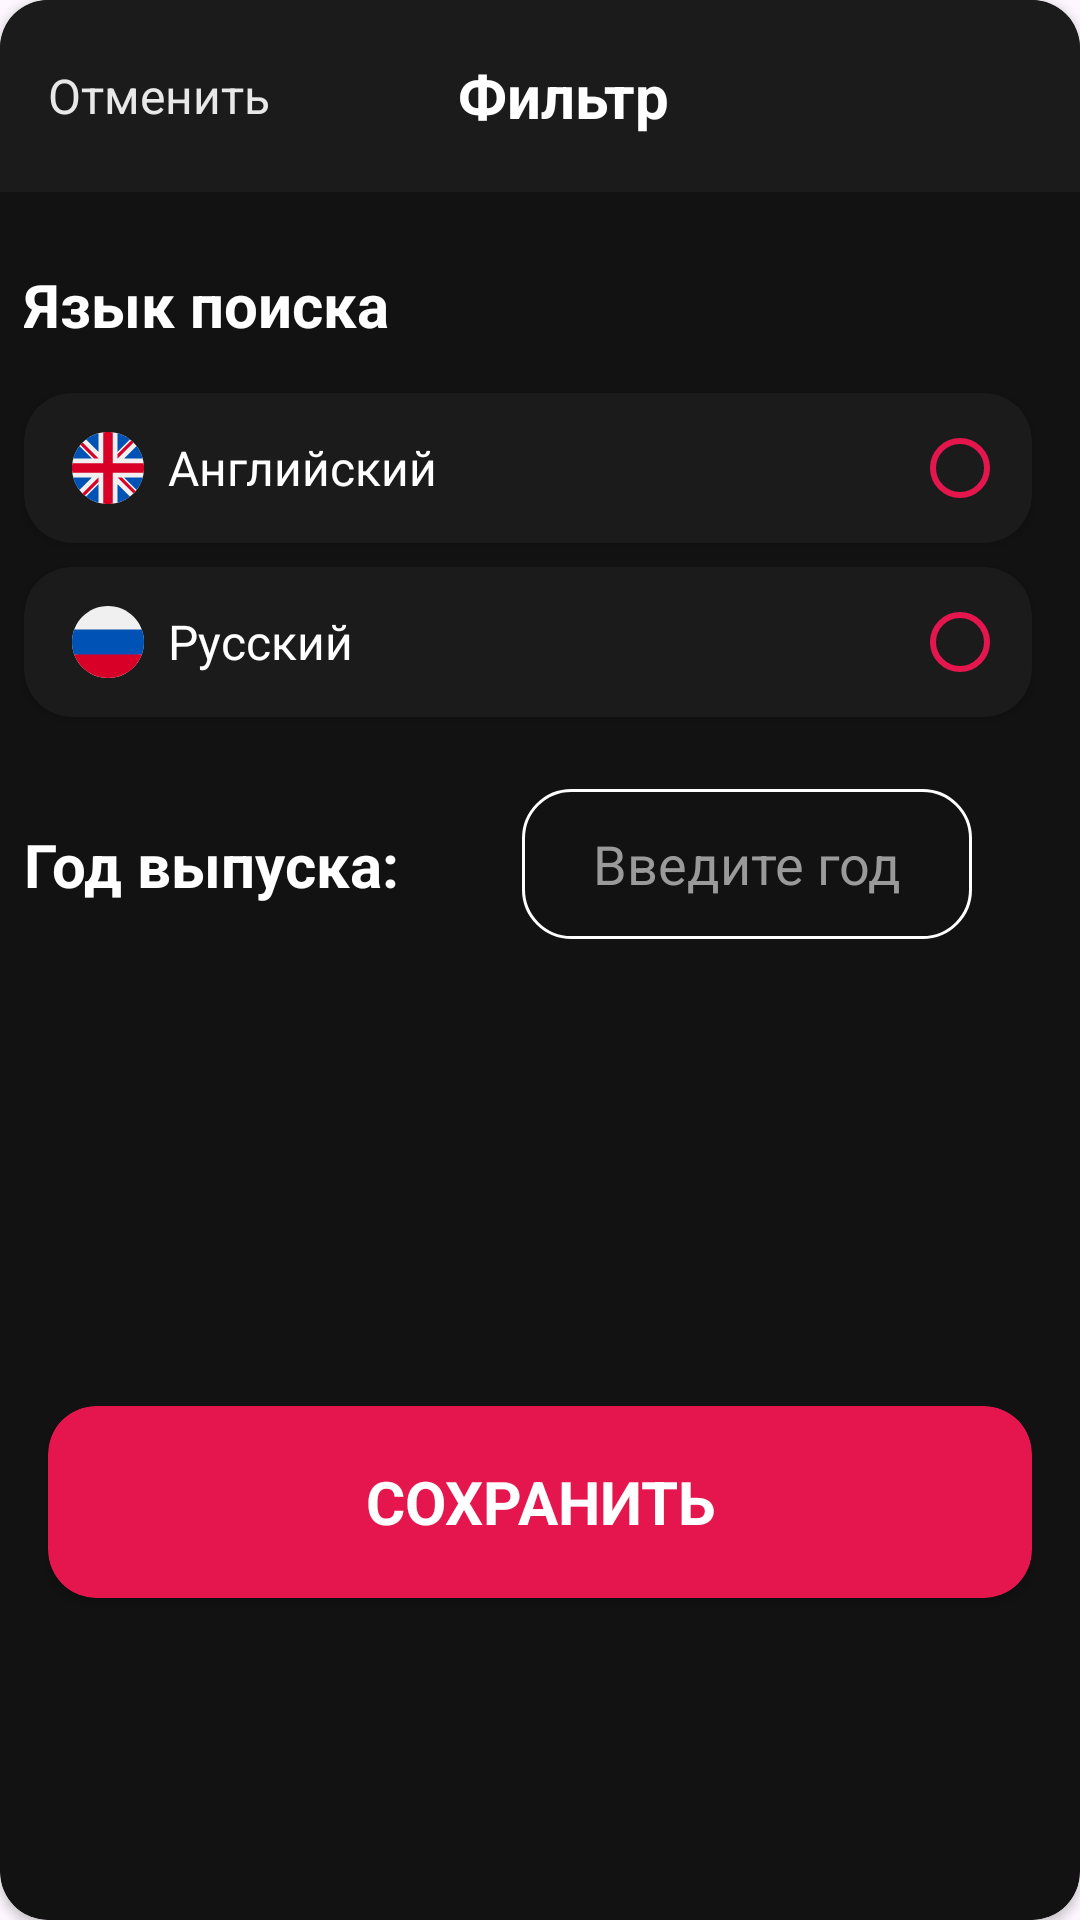

Screen size 1080 x 1920. Icon name, then its box in pixels as (x1, y1, x2, y2):
circle english: (72, 432, 144, 504)
circle russia: (72, 606, 144, 678)
